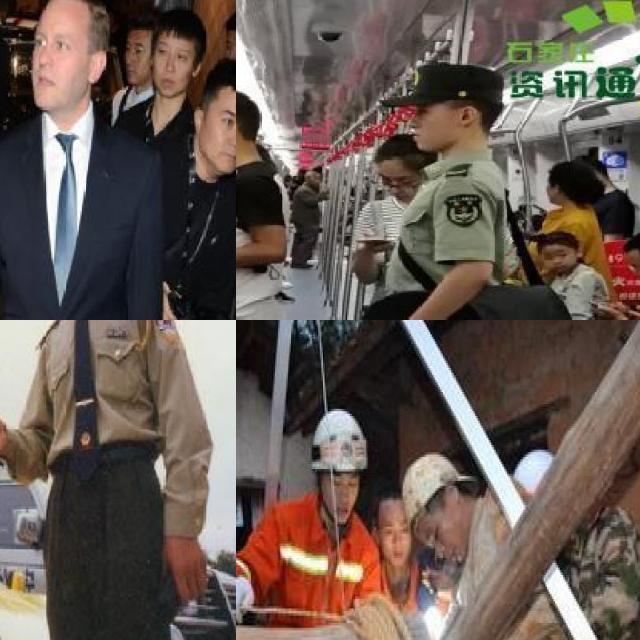No_Ear-Protection: (84, 48, 110, 91), (458, 104, 476, 128)
No_Glasses: (31, 26, 78, 64)
face_nomask: (33, 21, 82, 104), (406, 96, 464, 147), (204, 107, 236, 175), (321, 471, 363, 522), (156, 38, 188, 103), (421, 522, 468, 566), (381, 517, 414, 566), (125, 35, 150, 94), (542, 245, 578, 273)
hand_glove: (236, 576, 260, 622)
hand_noglove: (156, 531, 208, 603), (355, 231, 395, 256), (590, 300, 625, 320), (163, 280, 178, 320), (628, 306, 640, 320)
head_helmet: (307, 407, 369, 476), (396, 453, 455, 518)
head_nohelmet: (414, 62, 514, 113), (29, 0, 108, 49), (367, 125, 427, 171), (151, 9, 205, 58), (201, 61, 236, 116), (205, 0, 236, 43), (548, 156, 591, 185), (120, 16, 156, 48), (533, 232, 578, 252), (236, 77, 256, 109), (617, 233, 640, 259)
person: (0, 320, 217, 640), (0, 0, 162, 320), (353, 68, 536, 320), (396, 456, 623, 640), (236, 405, 387, 640), (236, 60, 305, 320)
